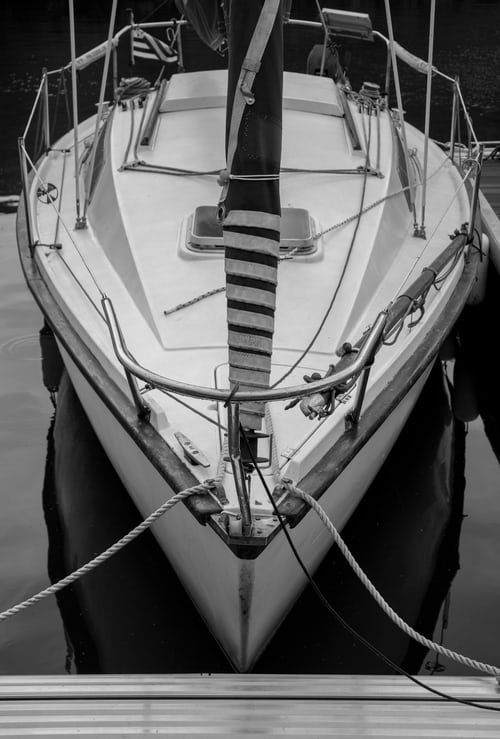yacht: (12, 24, 499, 629)
